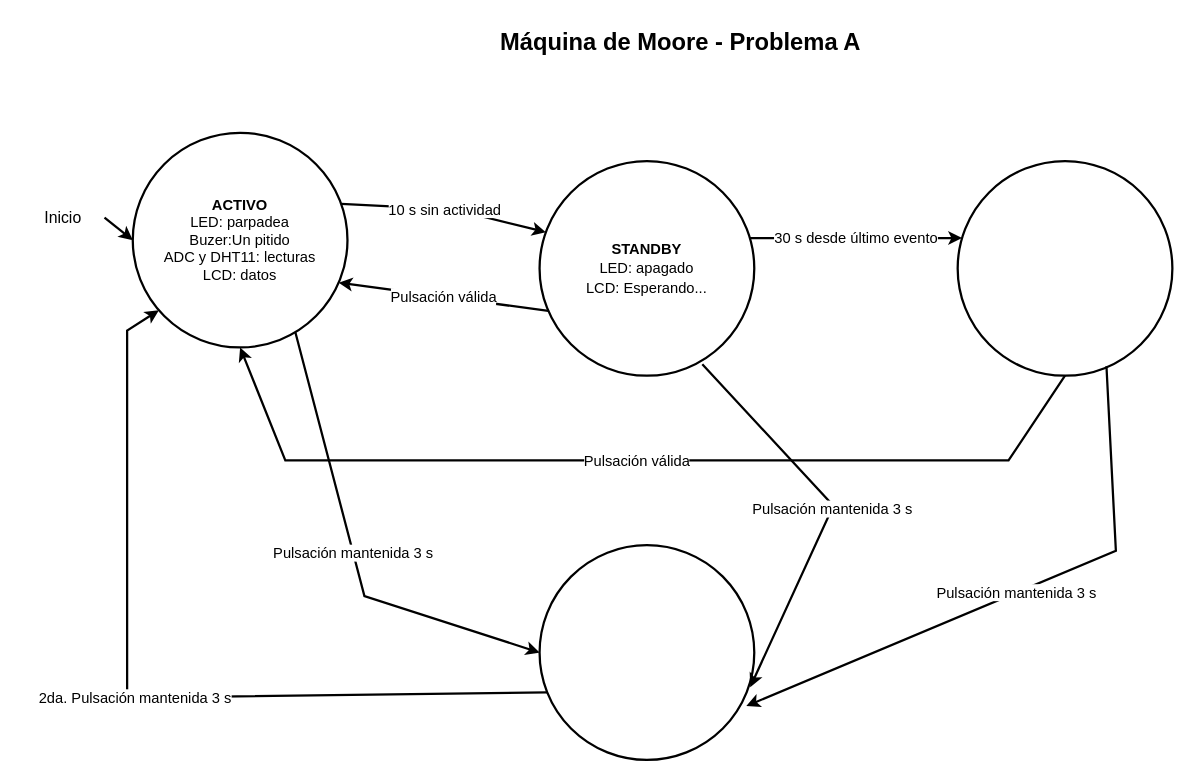
The diagram is 1192 pixels wide and 780 high, and some of its shapes have lost their labels. The centre of each missing label's shape, as x and y in pixels:
APAGADO LED: apagado LCD: APAGADO ADC y DHT11: suspendidos: point 1064,267
EMERGENCIA LED: apagado Buzzer: apagado LCD: EMERGENCIA: point 646,652
